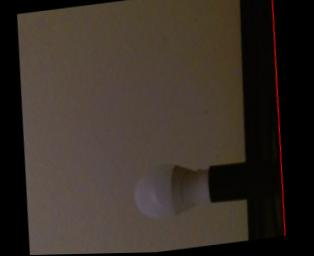Fan: (130, 156, 204, 222)
